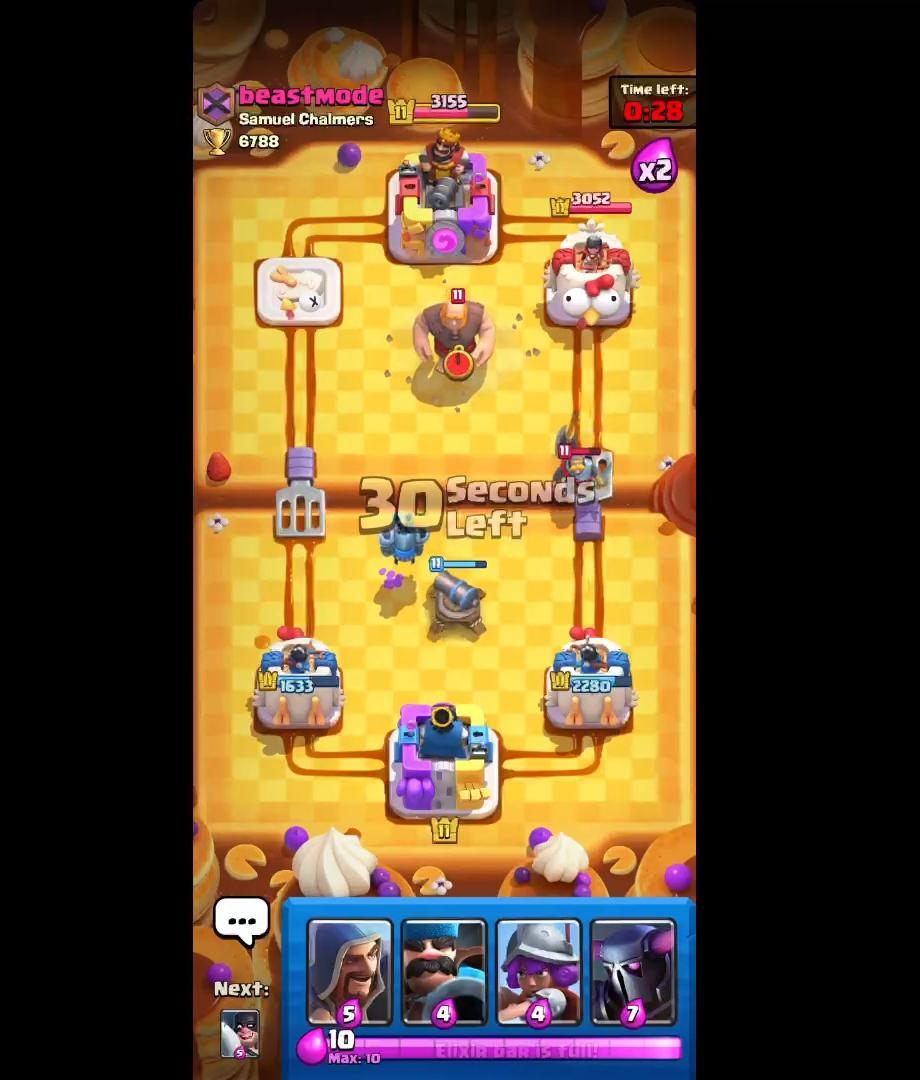Giant: (412, 290, 503, 383)
